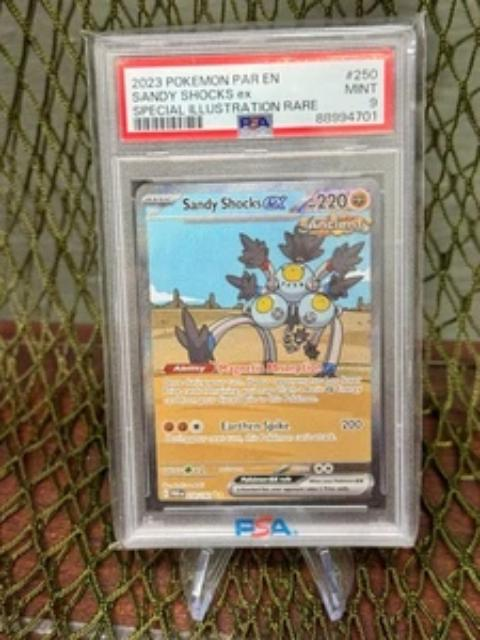Card: (132, 174, 389, 512)
Name: (178, 192, 291, 217)
